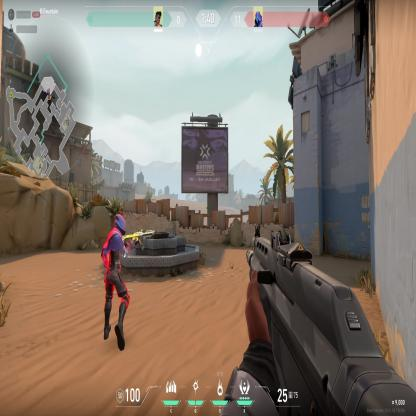enemy: (99, 209, 137, 354)
